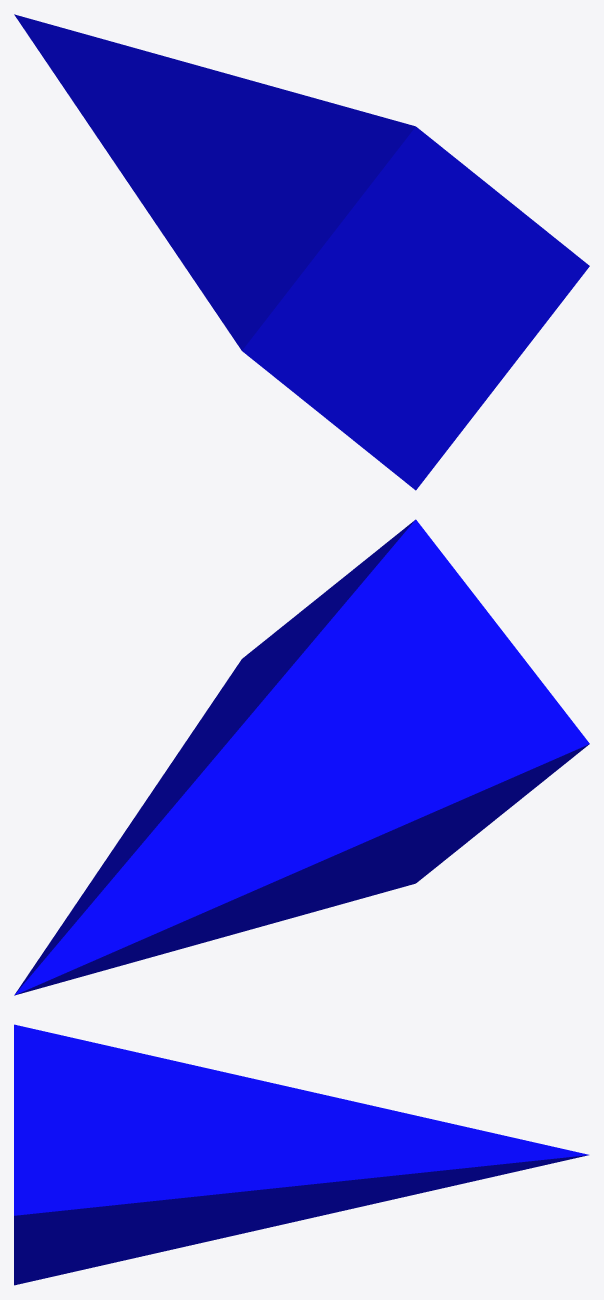
File: node_lookat6.dae
3 views of the same model, one above another, from view 1: azimuth 30°, elevation 25°; view 2: azimuth 150°, elevation 25°; view 3: azimuth 270°, elevation 25° (orthographic). The views are drawn at different scales.
Parts seen in each view (by area): view 1: cube_node; view 2: cube_node; view 3: cube_node.
Part boxes in pixels (<box>): cube_node: <box>14,14,589,490</box>; cube_node: <box>14,519,589,995</box>; cube_node: <box>14,1024,588,1285</box>.
Bounding box in the file's own units: 100 × 100 × 200.
